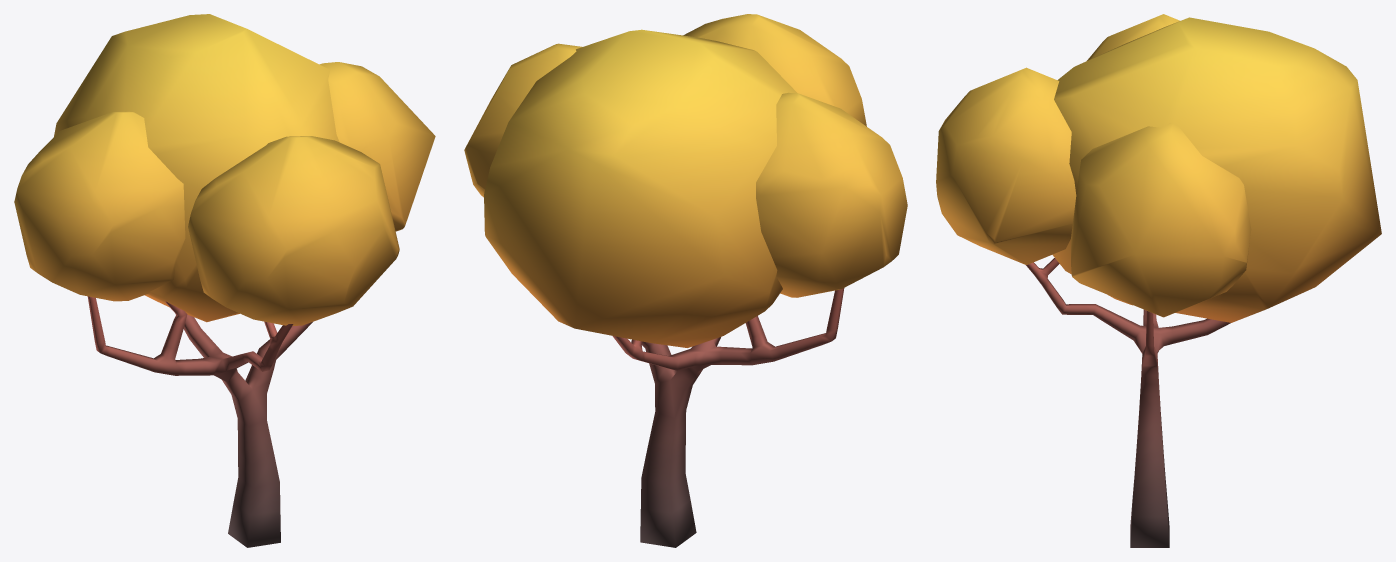
The picture shows the model from 3 angles, left to right: view 1: azimuth 30°, elevation 25°; view 2: azimuth 150°, elevation 25°; view 3: azimuth 270°, elevation 25°; orthographic projection. The views are drawn at different scales.
Visible parts, largest first — view 1: Vert.025-col; view 2: Vert.025-col; view 3: Vert.025-col.
Boxes of the visible parts, x1=… form: Vert.025-col: x1=14, y1=14, x2=435, y2=547; Vert.025-col: x1=464, y1=14, x2=907, y2=547; Vert.025-col: x1=936, y1=14, x2=1381, y2=547.
Bounding box in the file's own units: 4.23 × 5.05 × 4.09.
1 material, 1 textured.
